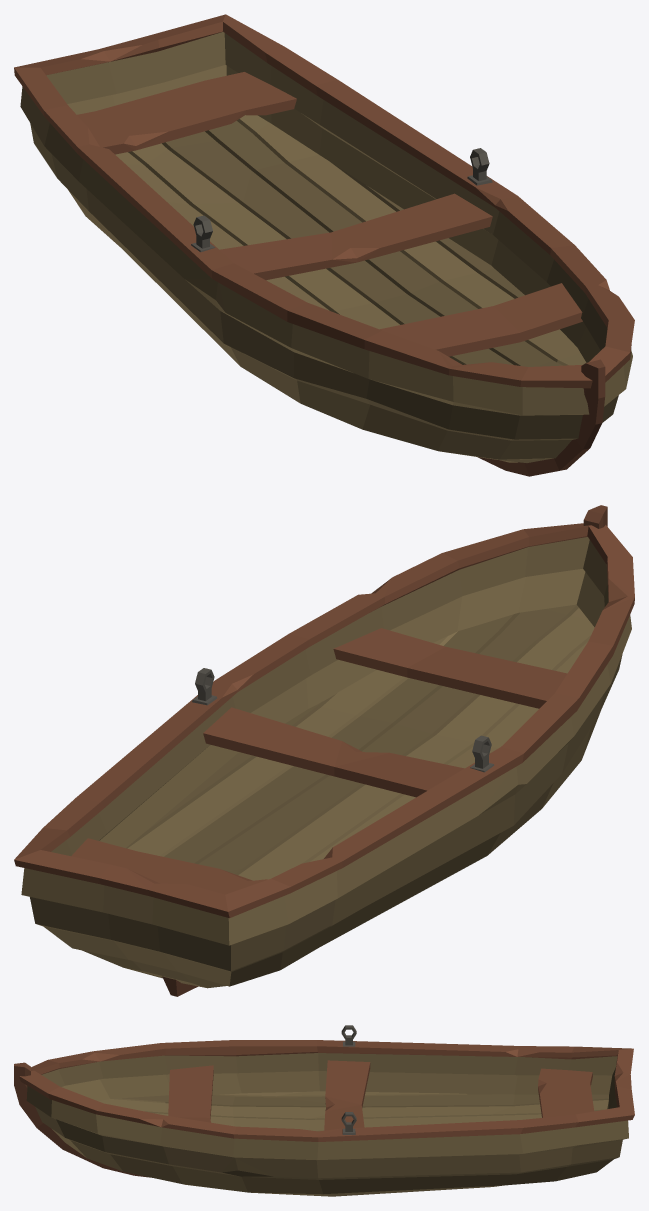
The model's file is BoatSmall_2.fbx.
The picture shows the model from 3 angles, top to bottom: view 1: azimuth 30°, elevation 25°; view 2: azimuth 150°, elevation 25°; view 3: azimuth 270°, elevation 25°; orthographic projection. The views are drawn at different scales.
Parts seen in each view (by area): view 1: BoatSmall_2; view 2: BoatSmall_2; view 3: BoatSmall_2.
Boxes of the visible parts, x1,y1,x2,y2 form: BoatSmall_2: (14, 14, 634, 476); BoatSmall_2: (14, 505, 634, 996); BoatSmall_2: (14, 1025, 634, 1196).
Size of the model in its own units: 148 by 89.99 by 402.
